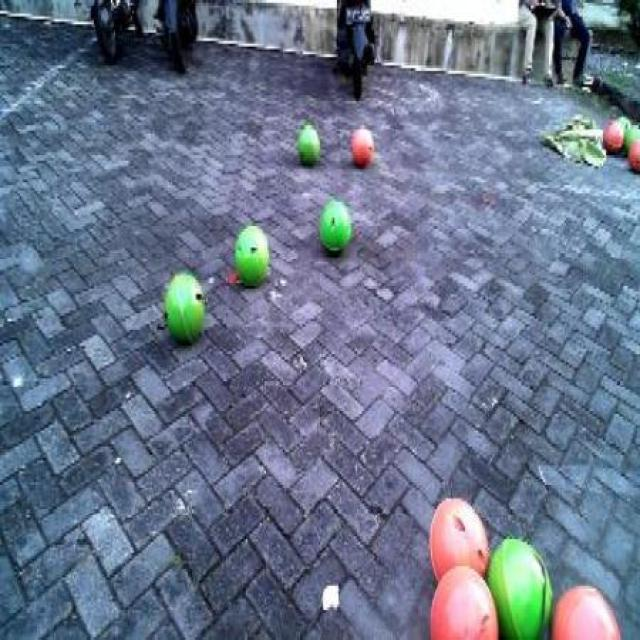buoy: (482, 528, 560, 635), (424, 474, 493, 594), (421, 556, 506, 634), (549, 566, 631, 634), (155, 266, 211, 353), (228, 218, 274, 292), (314, 193, 351, 256), (346, 112, 381, 177), (295, 118, 324, 171)
